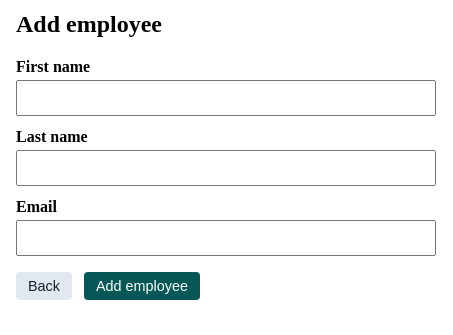
Test: EmployeeForm › rejects an invalid email
Type "Ada" into the field labelled "First name" at (226, 98), box [16,80,436,116]
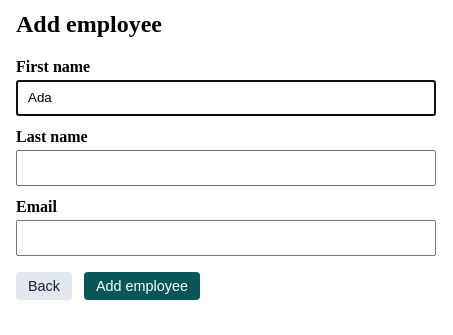
Type "Lovelace" into the field labelled "Last name" at (226, 168), box [16,150,436,186]
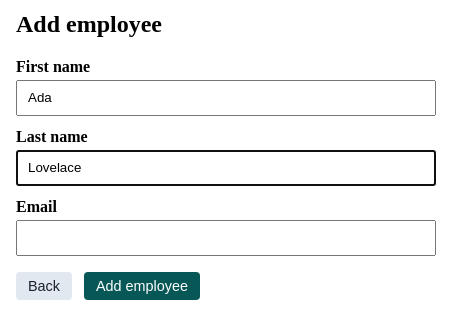
Type "not-an-email" into the field labelled "Email" at (226, 238), box [16,220,436,256]
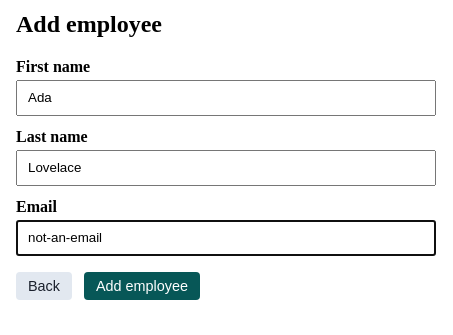
Click the button "Add employee" at (142, 286), box [84,272,200,300]
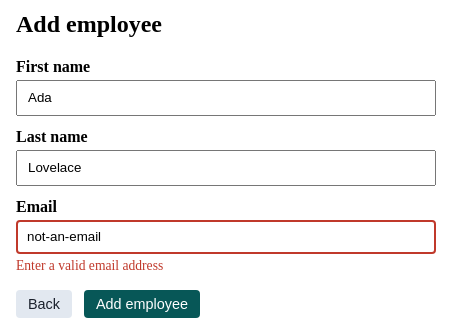
Check: the text "Enter a valid email address" is shown, box [16,258,163,273]
